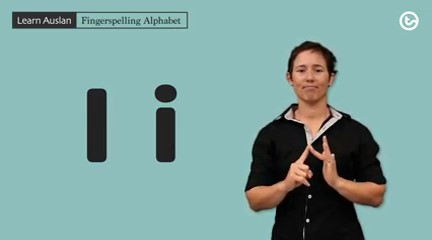I: (278, 130, 347, 200)
